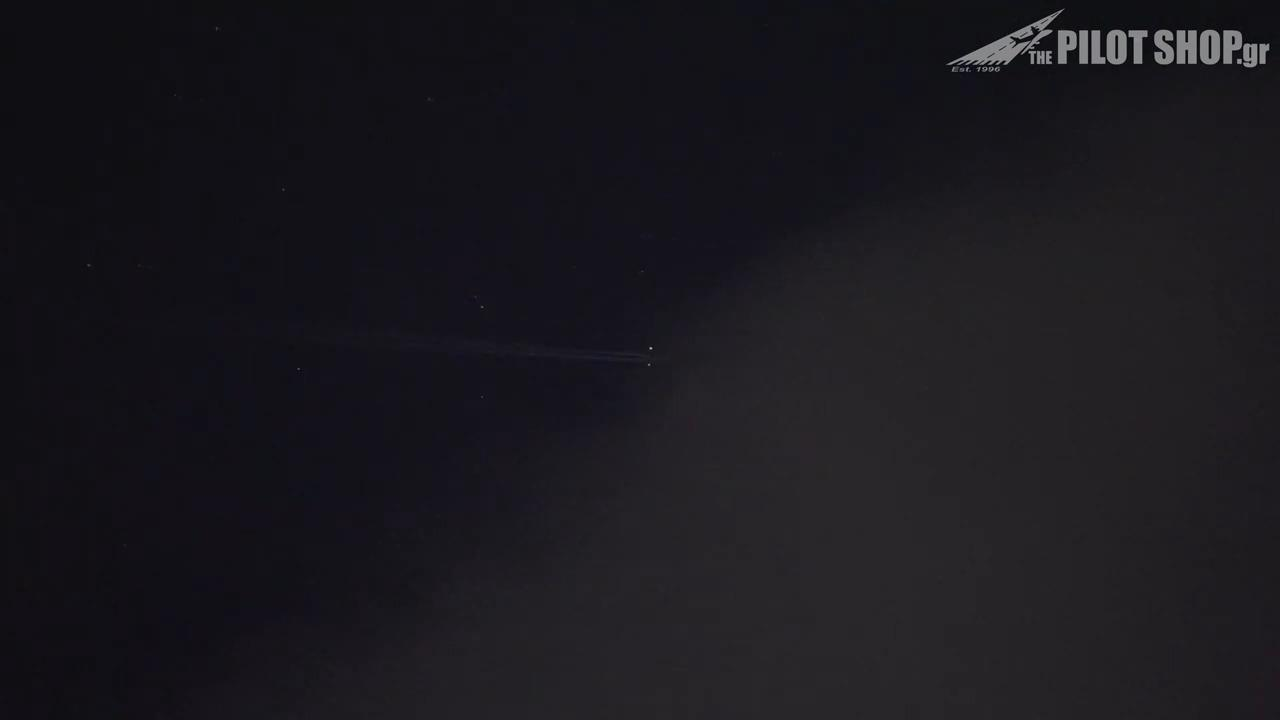Plane: (504, 336, 666, 374)
